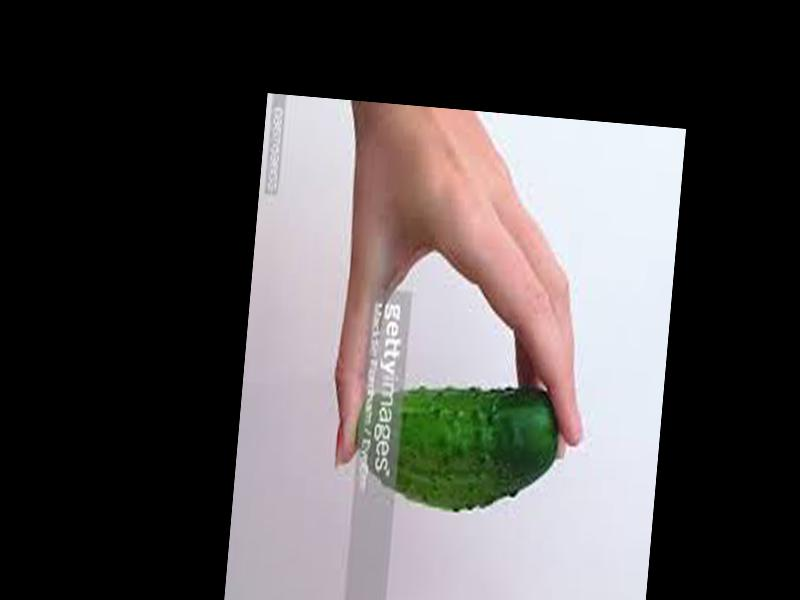Cucumber: (349, 375, 562, 520)
